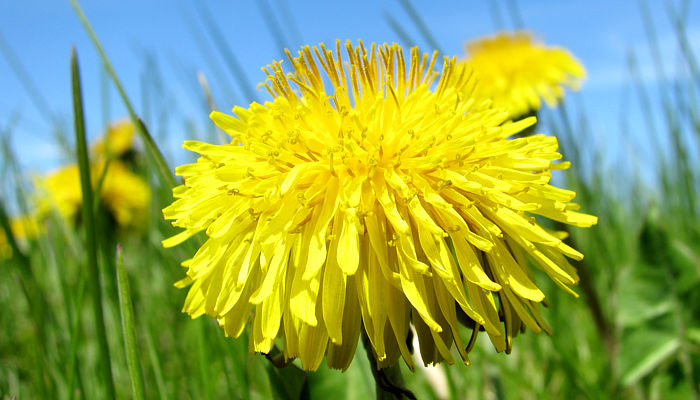dandelion: (199, 99, 557, 334)
